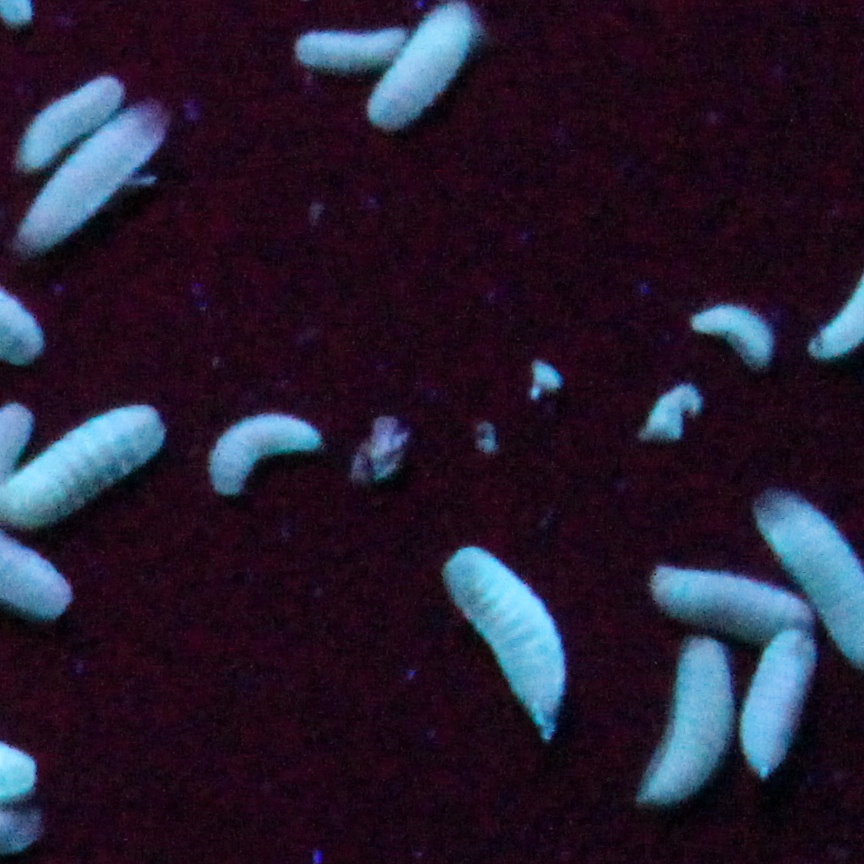larve: (440, 536, 574, 736), (27, 109, 167, 256), (14, 416, 160, 529), (640, 642, 734, 796), (647, 561, 818, 642), (214, 402, 320, 509), (699, 293, 773, 374), (305, 29, 399, 74)
